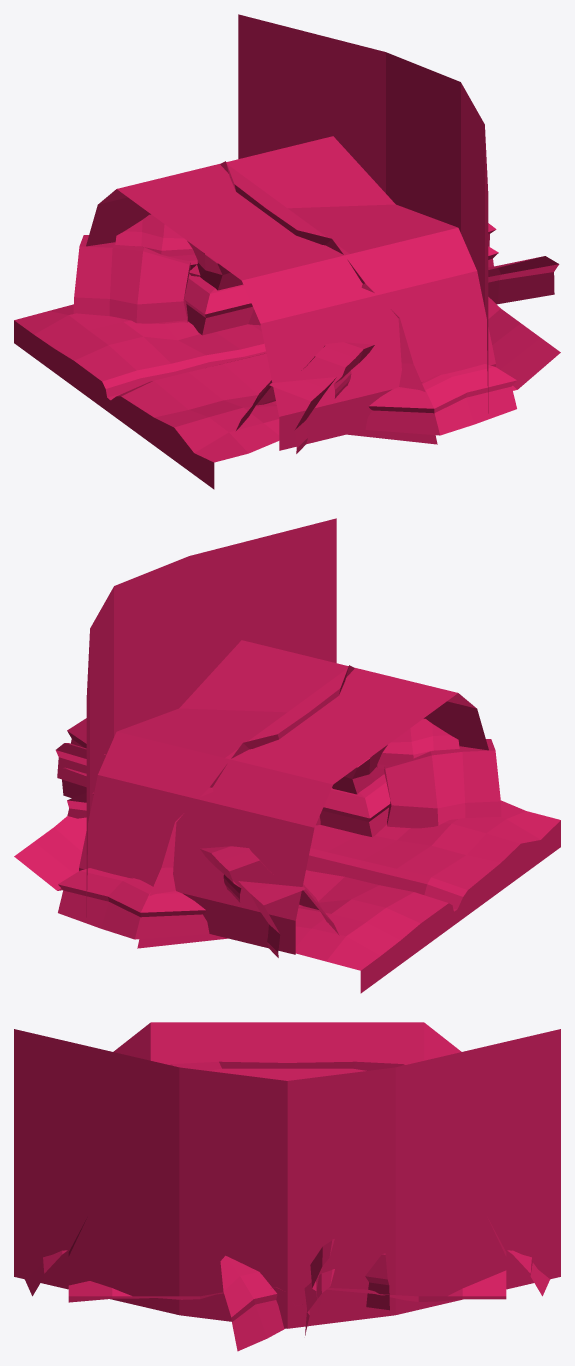
File: SM_background_base.fbx
The picture shows the model from 3 angles, top to bottom: view 1: azimuth 30°, elevation 25°; view 2: azimuth 150°, elevation 25°; view 3: azimuth 270°, elevation 25°; orthographic projection. The views are drawn at different scales.
Parts seen in each view (by area): view 1: Plane.001, Plane, Plane.002, Cube.008, Cube.006, Cube, Cube.009, Cube.030; view 2: Plane.001, Plane, Plane.002, Cube.008, Cube.006, Cube, Cube.009, Cube.029; view 3: Plane, Plane.001, Cube.030, Plane.002, Cube, Cube.008, Cube.027, Cube.026, Cube.029.
Part boxes in pixels (box(x1,y1,x2,y2)): Plane.001: box(86, 136, 495, 450); Plane: box(238, 14, 488, 413); Plane.002: box(14, 297, 560, 489); Cube.008: box(184, 270, 516, 435); Cube.006: box(73, 235, 336, 453); Cube: box(187, 161, 437, 444); Cube.009: box(115, 214, 374, 398); Cube.030: box(488, 256, 559, 304); Plane.001: box(79, 640, 488, 954); Plane: box(86, 518, 336, 917); Plane.002: box(14, 800, 560, 993); Cube.008: box(58, 774, 390, 939); Cube.006: box(238, 739, 501, 957); Cube: box(137, 665, 387, 948); Cube.009: box(200, 718, 459, 902); Cube.029: box(55, 743, 105, 787); Plane: box(14, 1029, 560, 1328); Plane.001: box(68, 1022, 506, 1256); Cube.030: box(220, 1255, 284, 1351); Plane.002: box(68, 1270, 506, 1306); Cube: box(170, 1061, 404, 1070); Cube.008: box(25, 1250, 549, 1296); Cube.027: box(365, 1253, 389, 1310); Cube.026: box(304, 1269, 334, 1335); Cube.029: box(310, 1239, 334, 1312).
Size of the model in its own units: 4000 by 3872 by 2202.
